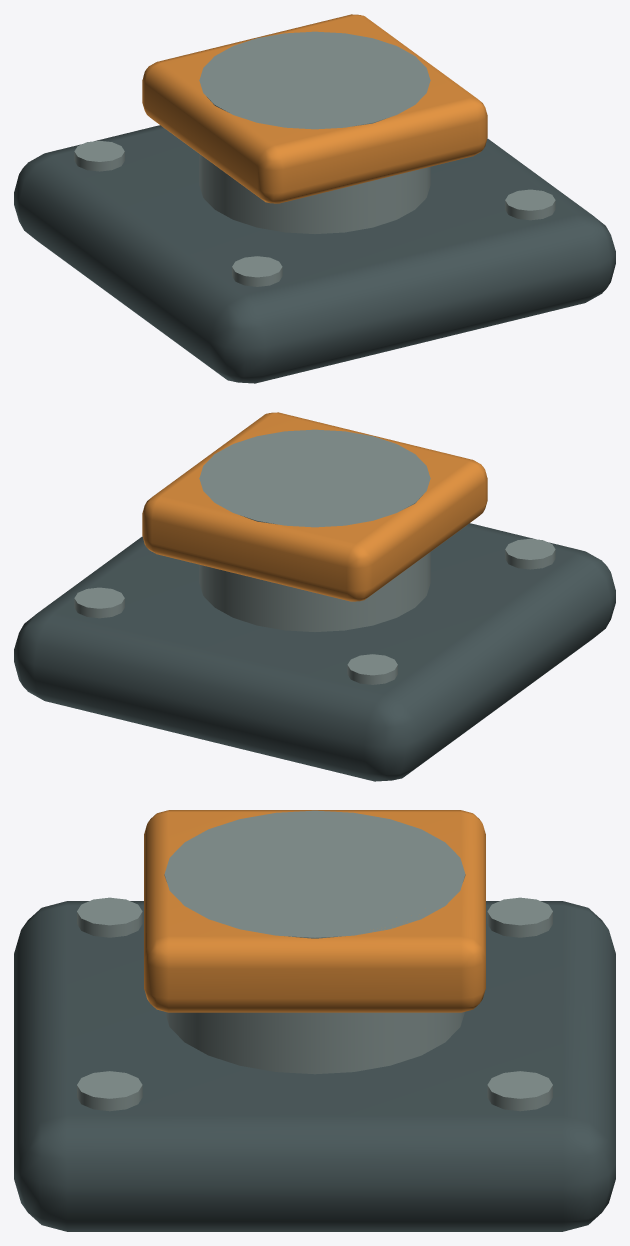
File: support-foot-020.glb
3 renders of one model, top to bottom at view 1: azimuth 30°, elevation 25°; view 2: azimuth 150°, elevation 25°; view 3: azimuth 270°, elevation 25°, orthographic. The views are drawn at different scales.
Parts seen in each view (by area): view 1: support-foot-020 / 06 • dark anodized frame, support-foot-020 / 05 • brushed titanium, support-foot-020 / 03 • ochre enamel; view 2: support-foot-020 / 06 • dark anodized frame, support-foot-020 / 05 • brushed titanium, support-foot-020 / 03 • ochre enamel; view 3: support-foot-020 / 06 • dark anodized frame, support-foot-020 / 05 • brushed titanium, support-foot-020 / 03 • ochre enamel.
Boxes of the visible parts, <box> form: support-foot-020 / 06 • dark anodized frame: <box>14,125,615,383</box>; support-foot-020 / 05 • brushed titanium: <box>74,31,555,286</box>; support-foot-020 / 03 • ochre enamel: <box>142,14,487,203</box>; support-foot-020 / 06 • dark anodized frame: <box>14,523,615,781</box>; support-foot-020 / 05 • brushed titanium: <box>74,429,555,684</box>; support-foot-020 / 03 • ochre enamel: <box>142,412,487,601</box>; support-foot-020 / 06 • dark anodized frame: <box>14,901,615,1231</box>; support-foot-020 / 05 • brushed titanium: <box>77,810,552,1111</box>; support-foot-020 / 03 • ochre enamel: <box>144,810,485,1012</box>.
Bounding box in the file's own units: 0.44 × 0.2 × 0.44.
